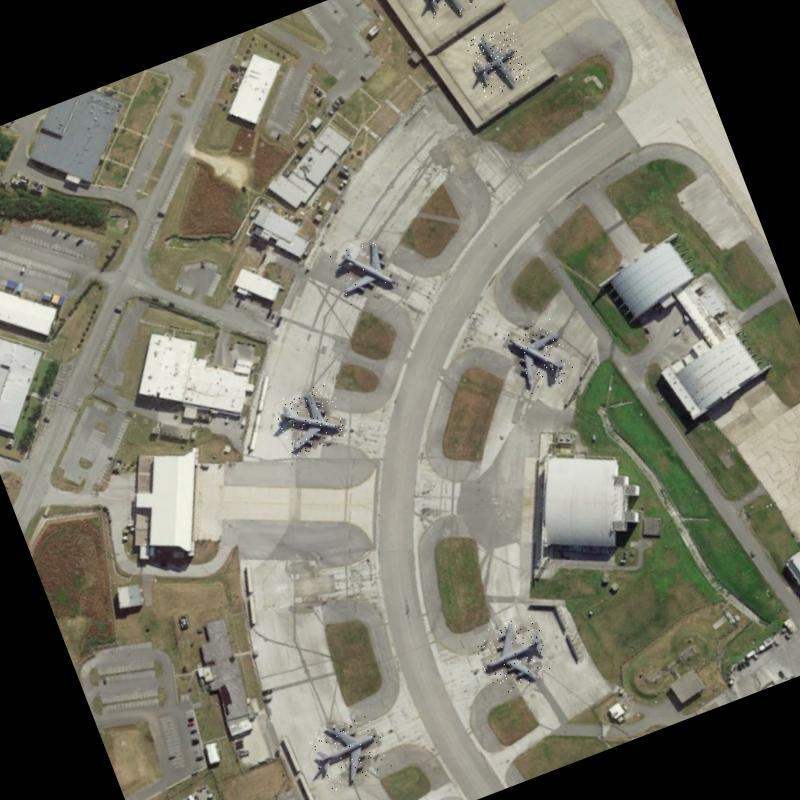A14: (470, 610, 556, 698), (305, 708, 393, 794), (270, 381, 348, 458), (504, 316, 576, 396), (326, 232, 402, 306)
A2: (462, 22, 532, 98), (413, 0, 480, 26)
